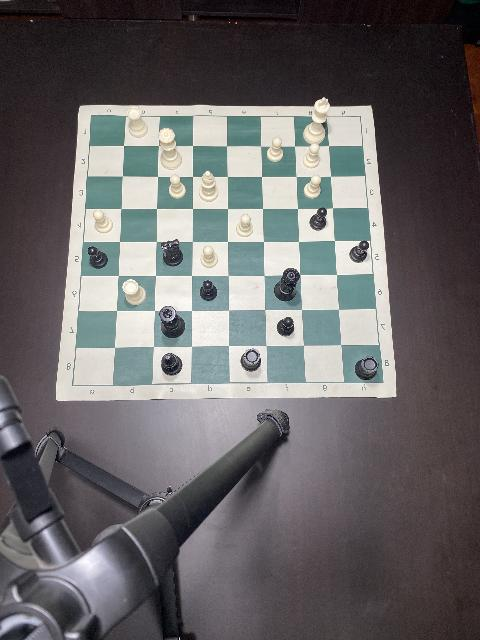black-bishop: (162, 352, 182, 376)
black-king: (159, 306, 185, 338)
black-knight: (160, 238, 182, 266)
black-pawn: (308, 207, 328, 231), (349, 239, 369, 263), (198, 280, 218, 300), (88, 246, 106, 268), (276, 316, 294, 336)
black-queen: (274, 267, 298, 301)
black-rook: (354, 356, 376, 380), (240, 348, 260, 372)
board: (55, 104, 396, 400)
white-bishop: (198, 171, 218, 201)
white-king: (302, 97, 330, 145)
white-pawn: (93, 209, 113, 233), (302, 142, 320, 168), (168, 174, 186, 198), (266, 136, 282, 162), (200, 245, 218, 268), (302, 176, 320, 198), (236, 214, 252, 236)
white-queen: (160, 127, 183, 169)
white-rook: (128, 106, 148, 138), (121, 279, 145, 305)
